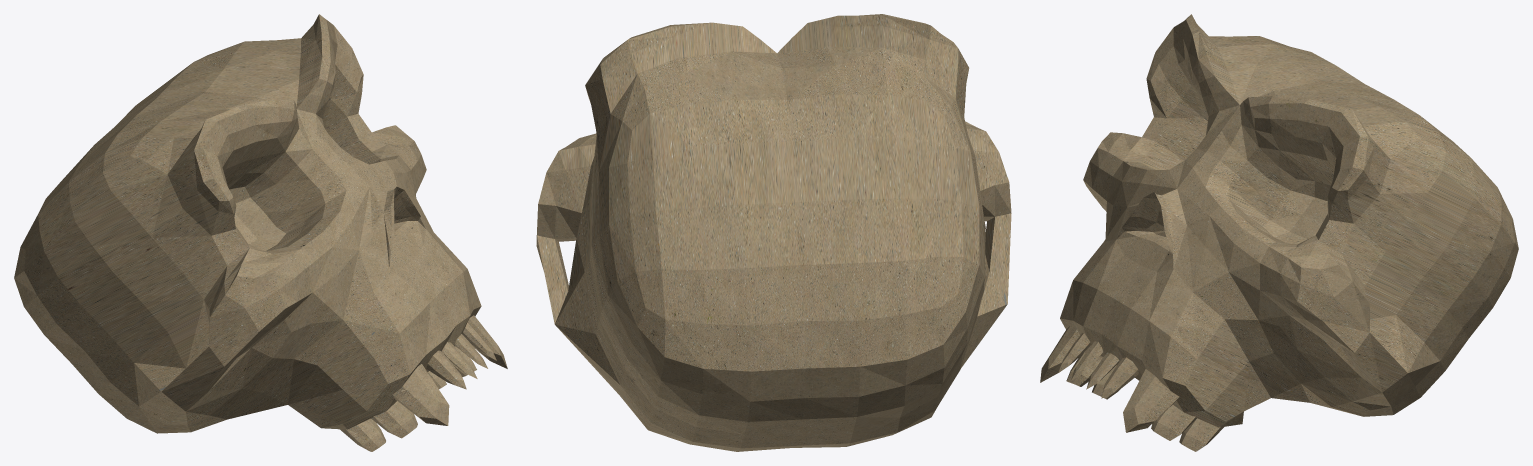
The model's file is Monkeyskull.glb.
3 renders of one model, left to right at view 1: azimuth 30°, elevation 25°; view 2: azimuth 150°, elevation 25°; view 3: azimuth 270°, elevation 25°, orthographic. The views are drawn at different scales.
Bounding box in the file's own units: 1.51 × 1.28 × 1.63.
1 material, 1 textured.
